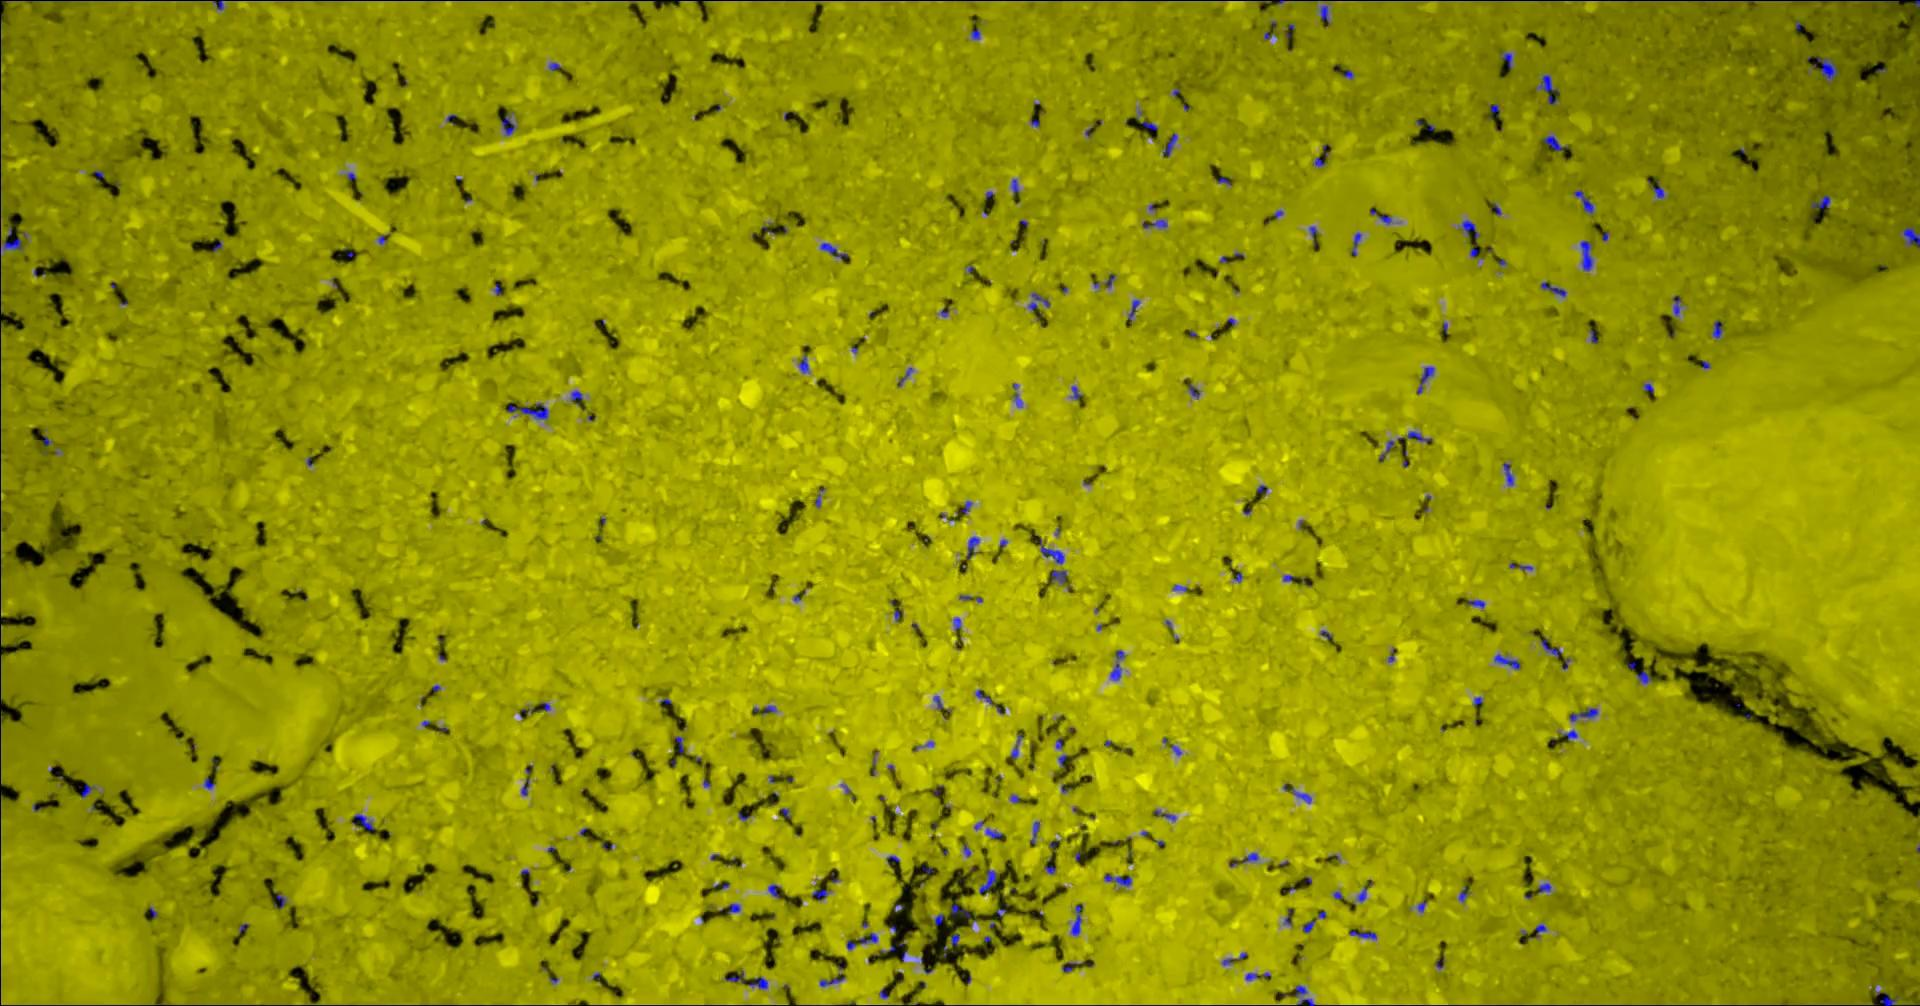ant: (1537, 74, 1559, 104), (507, 403, 547, 419), (1037, 537, 1063, 563), (1813, 56, 1837, 83), (1283, 782, 1310, 803), (819, 243, 847, 260), (1416, 366, 1434, 392), (1573, 189, 1592, 213), (1493, 653, 1520, 669), (1578, 240, 1592, 271), (1110, 649, 1124, 680), (979, 869, 996, 894), (1294, 984, 1314, 1005), (350, 813, 375, 829), (1570, 708, 1597, 721), (1103, 873, 1131, 887), (1462, 220, 1479, 241), (1543, 135, 1567, 150), (1540, 281, 1564, 296), (1029, 292, 1049, 310), (1540, 638, 1561, 655), (1070, 904, 1082, 935), (0, 238, 22, 253), (819, 973, 844, 986), (1162, 133, 1176, 156), (1876, 991, 1898, 1005), (1902, 227, 1919, 246), (502, 111, 514, 135), (1406, 431, 1431, 442), (950, 903, 970, 917), (966, 536, 979, 558), (747, 976, 767, 988), (1349, 930, 1377, 939), (724, 970, 743, 983), (1351, 232, 1361, 255), (1012, 384, 1022, 406), (1029, 821, 1039, 843), (1811, 196, 1829, 208), (1142, 218, 1167, 227), (811, 888, 829, 901), (1636, 669, 1651, 683), (1500, 51, 1512, 67), (1652, 180, 1663, 198), (1710, 320, 1722, 338), (797, 354, 809, 372), (1503, 462, 1512, 485), (1051, 569, 1065, 583), (273, 893, 286, 908), (858, 932, 877, 942), (1319, 5, 1330, 23), (1672, 295, 1681, 315), (767, 884, 780, 898), (570, 390, 582, 405), (1790, 0, 1851, 1)
